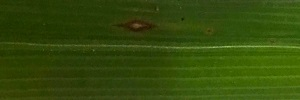RiceBlast: (111, 15, 159, 39)
